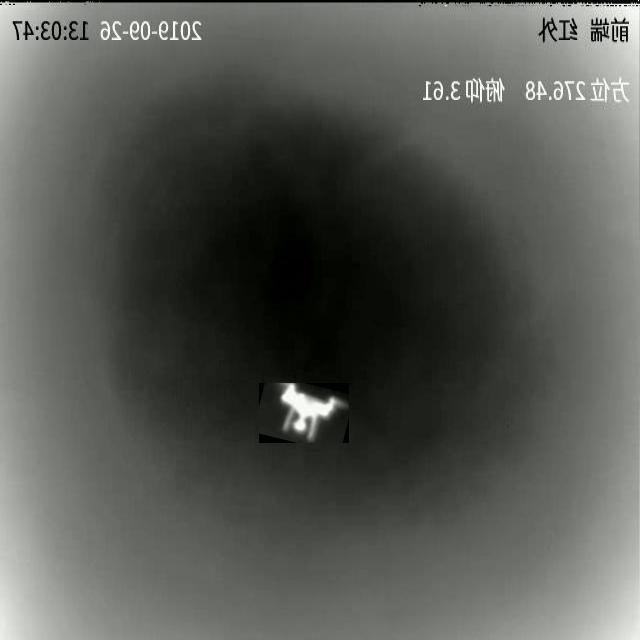drone: (259, 384, 349, 444)
